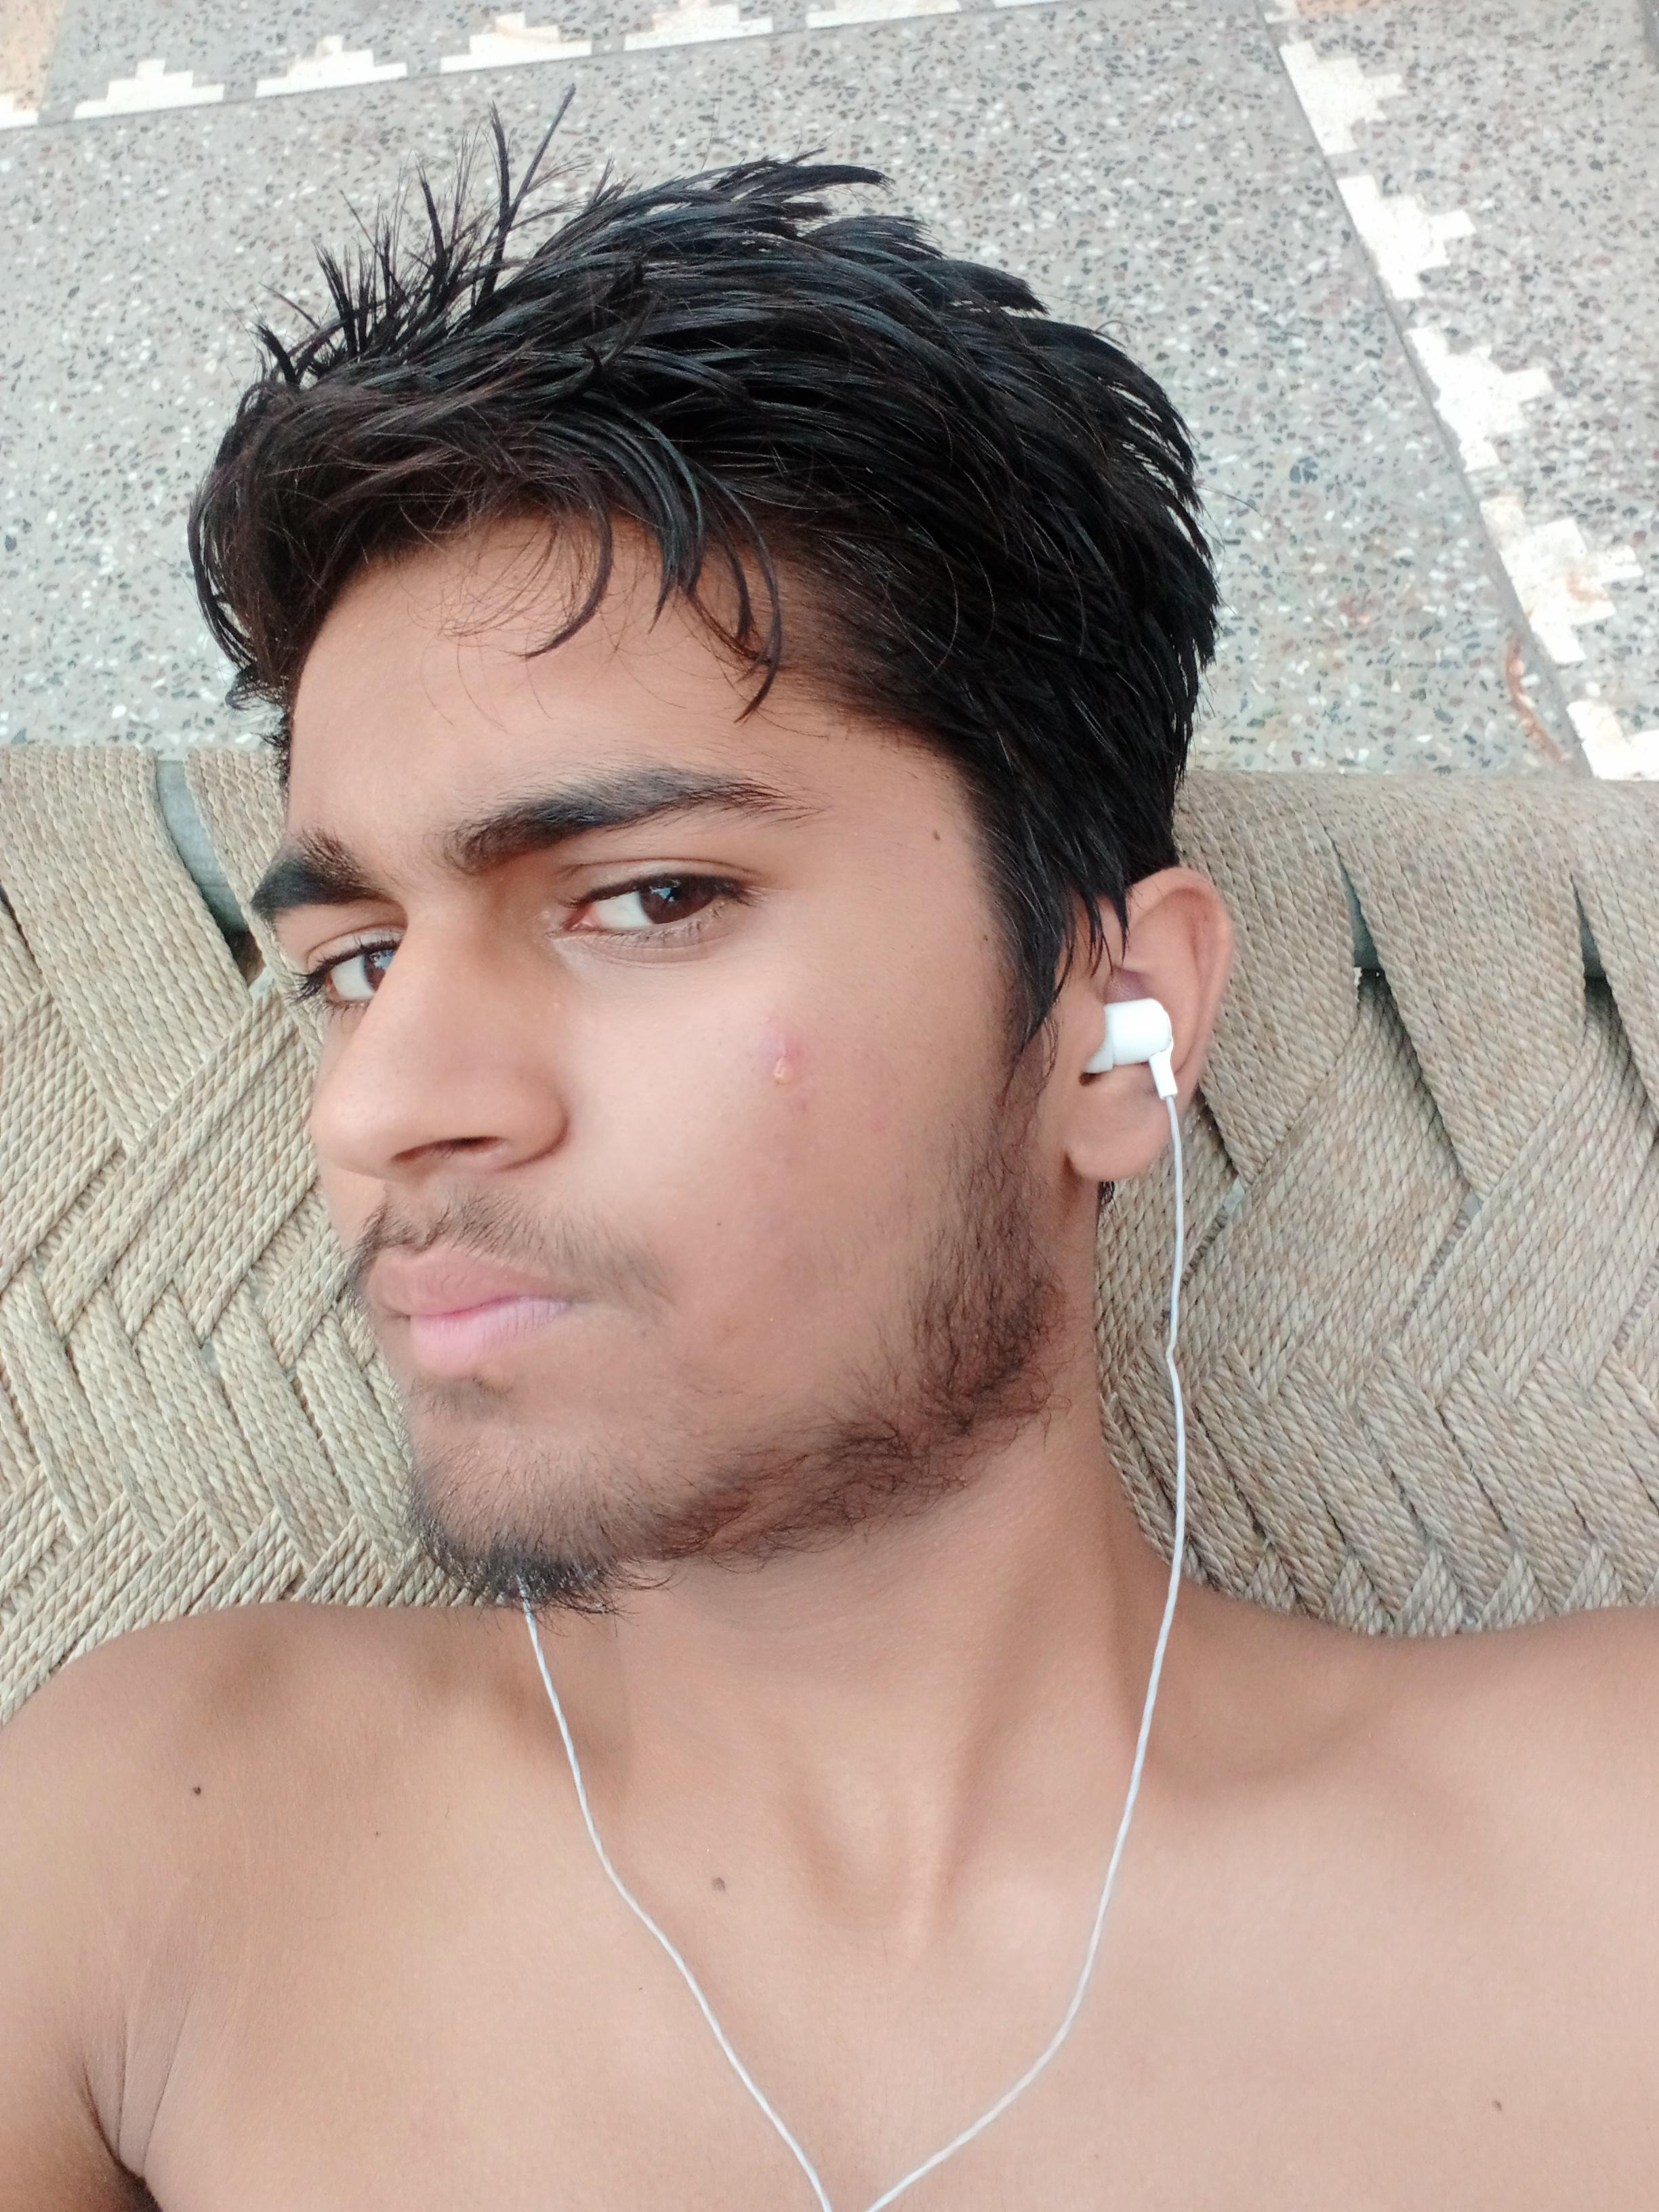Acne: (765, 1036, 803, 1089), (856, 1109, 889, 1139), (791, 1092, 812, 1115)
Wrinkles: (333, 653, 528, 714)
